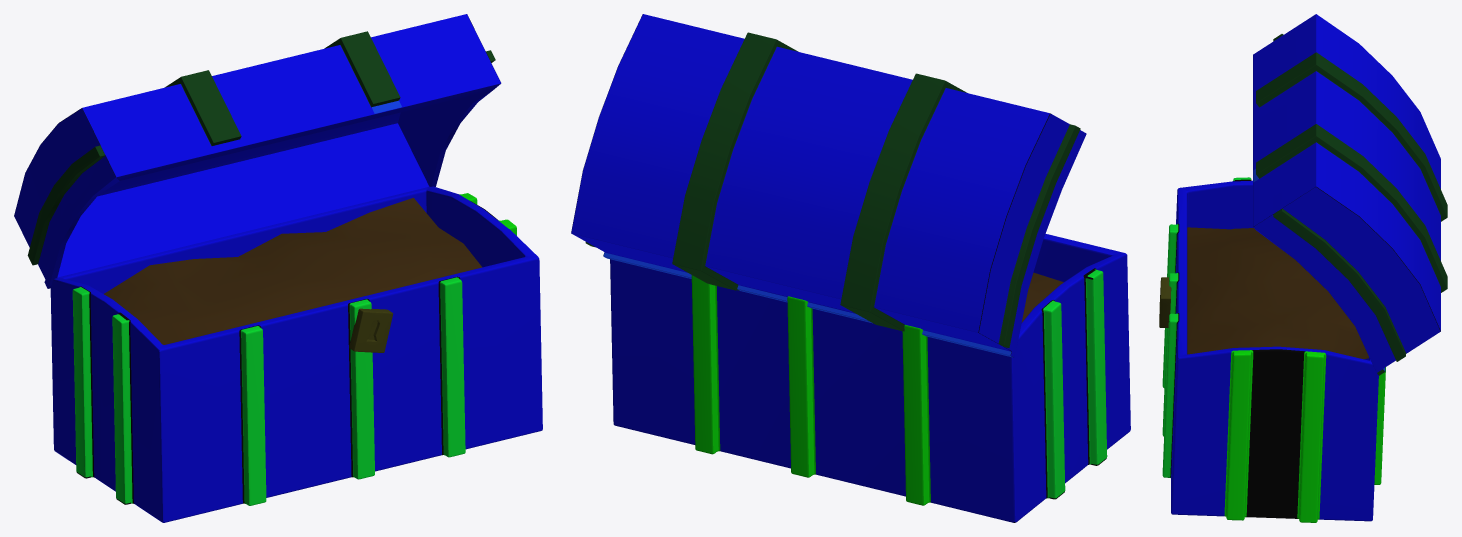
File: Chest2.fbx
3 renders of one model, left to right at view 1: azimuth 30°, elevation 25°; view 2: azimuth 150°, elevation 25°; view 3: azimuth 270°, elevation 25°, orthographic. The views are drawn at different scales.
Parts seen in each view (by area): view 1: Chestbase, Chestlid; view 2: Chestlid, Chestbase; view 3: Chestbase, Chestlid.
Part boxes in pixels (x1=…): Chestbase: x1=50, y1=186, x2=542, y2=522; Chestlid: x1=14, y1=14, x2=501, y2=288; Chestlid: x1=571, y1=14, x2=1086, y2=357; Chestbase: x1=610, y1=234, x2=1130, y2=522; Chestbase: x1=1159, y1=177, x2=1385, y2=522; Chestlid: x1=1253, y1=14, x2=1447, y2=375.
Size of the model in its own units: 2.5 by 2.25 by 1.71.
